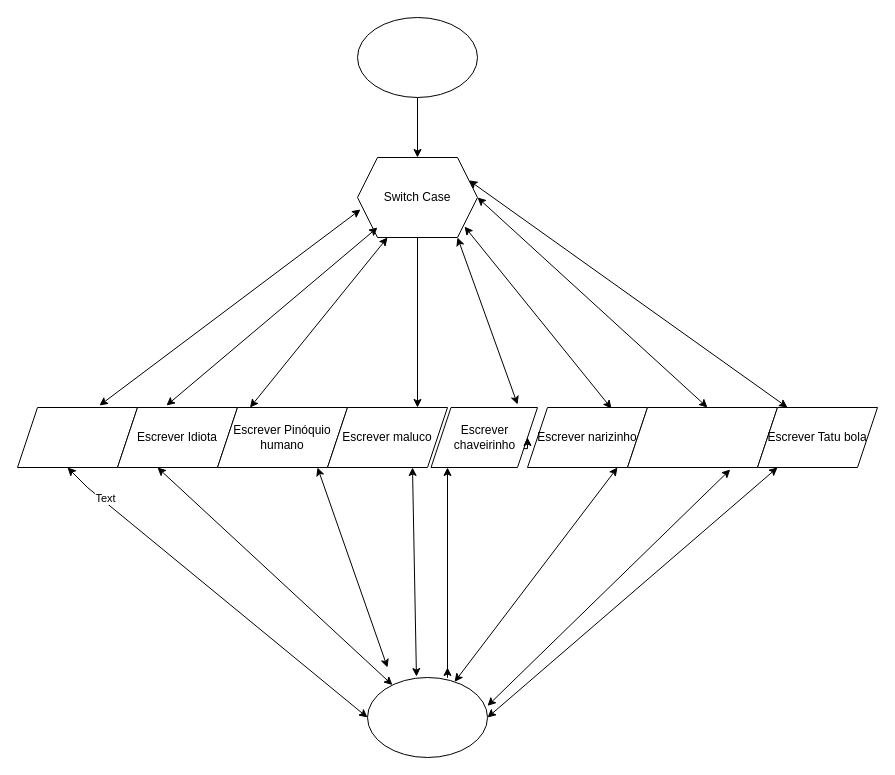
This 895x775 diagram has some shape labels left out. The centre of each missing label's shape, as x and y in pixels:
Escrever Burro: (77,437)
Escrever pequeninho: (702,437)
Fim: (427,717)
Início: (417,57)
